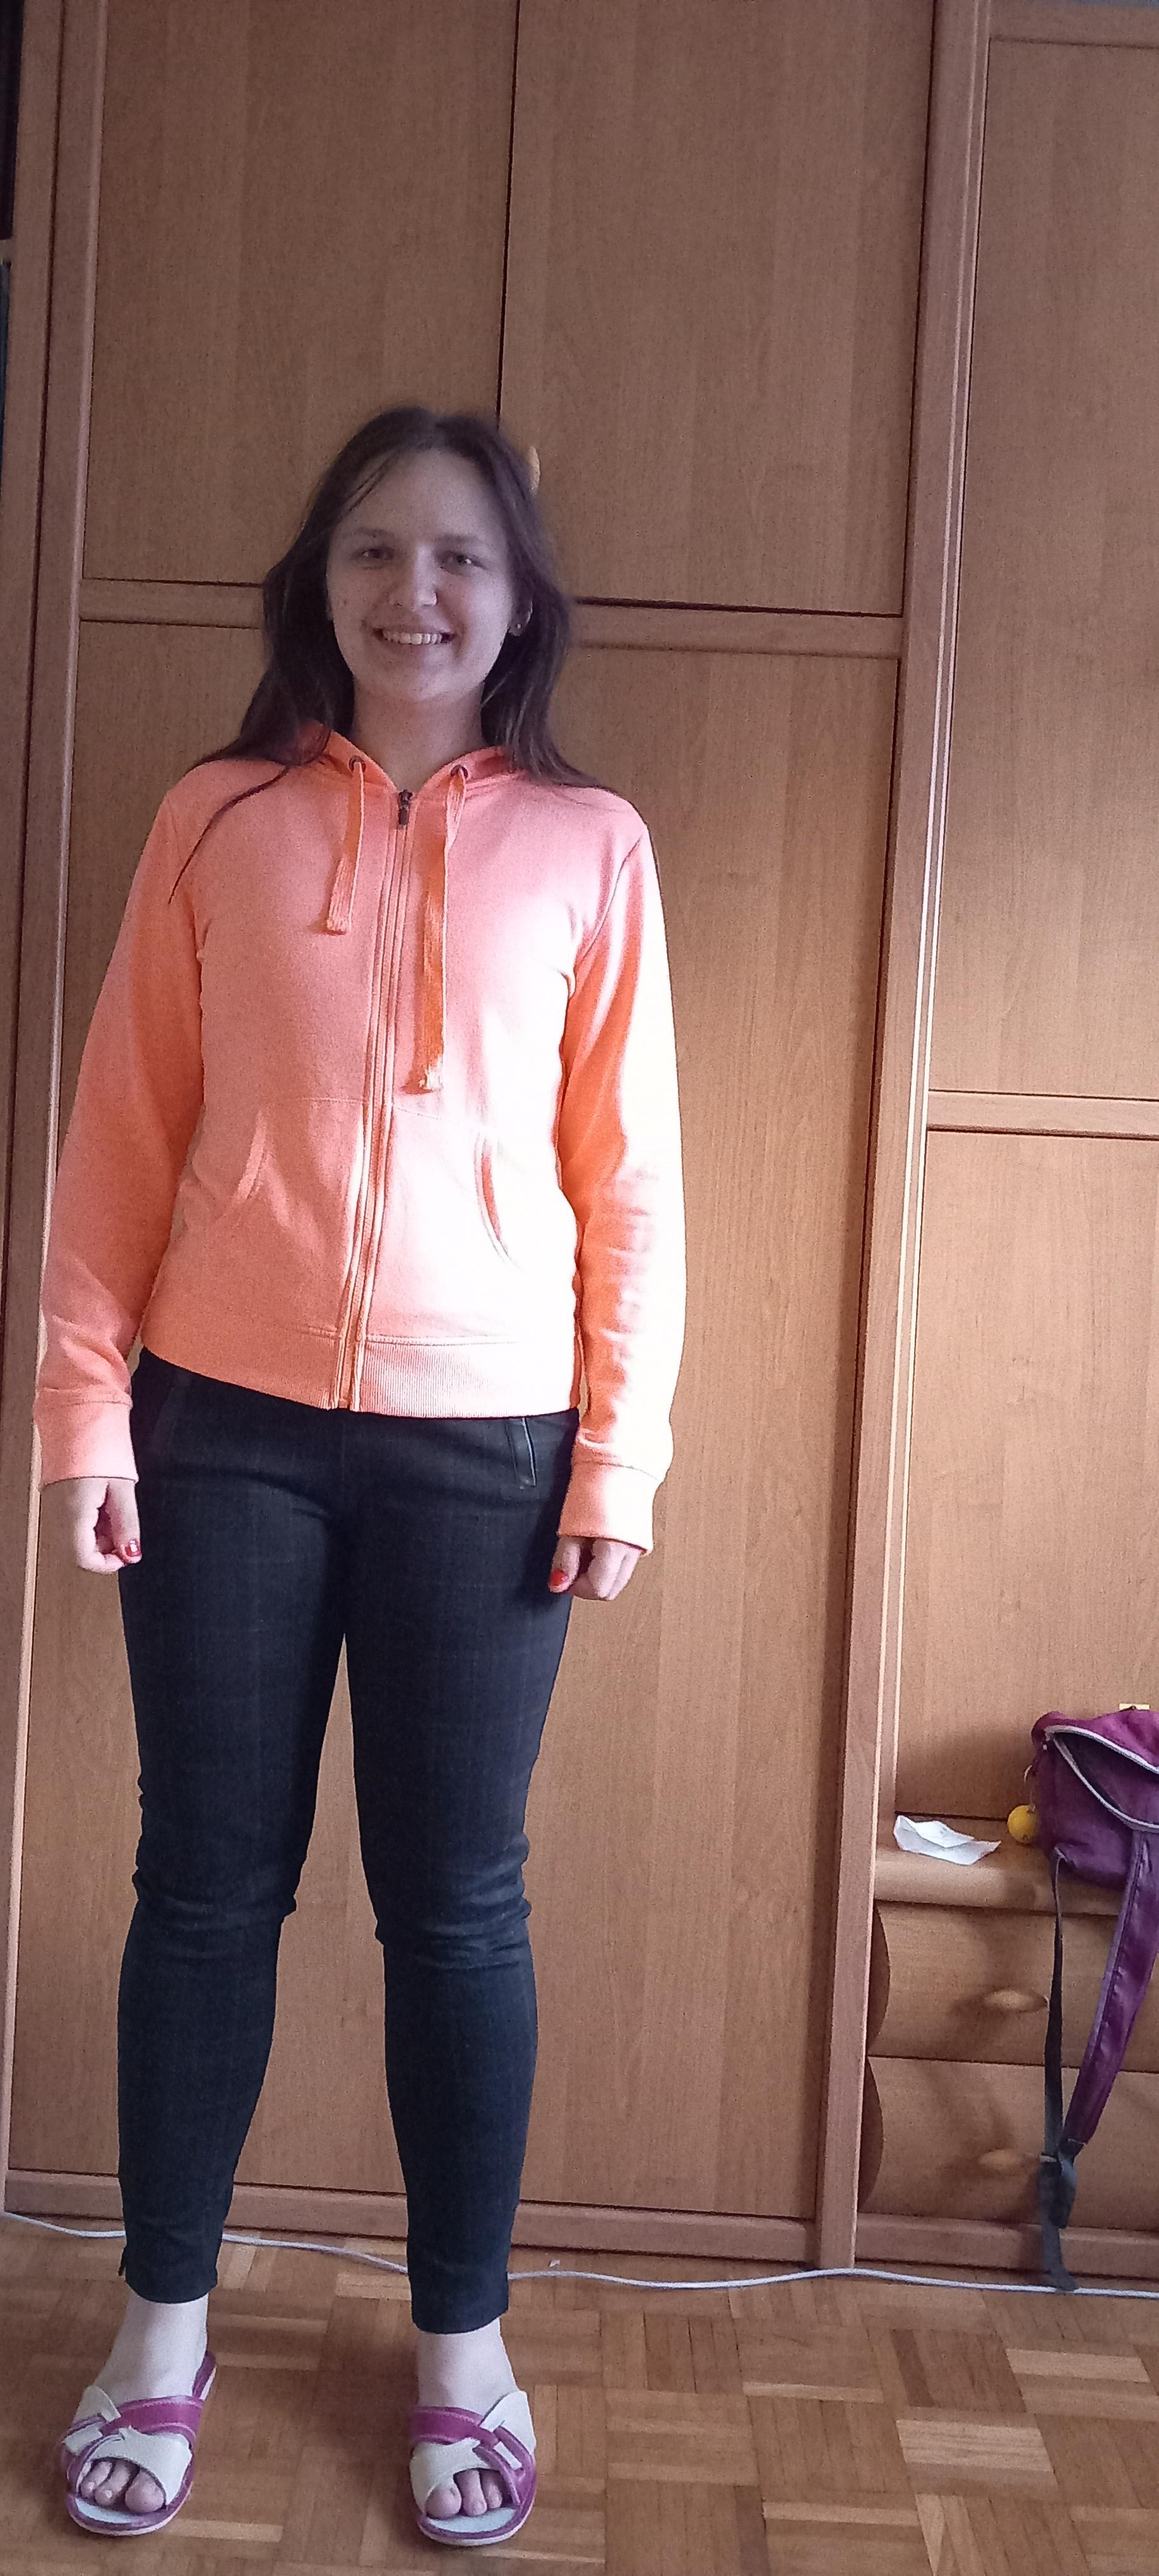pants: (103, 1349, 593, 2338)
sweater: (33, 715, 686, 1552)
